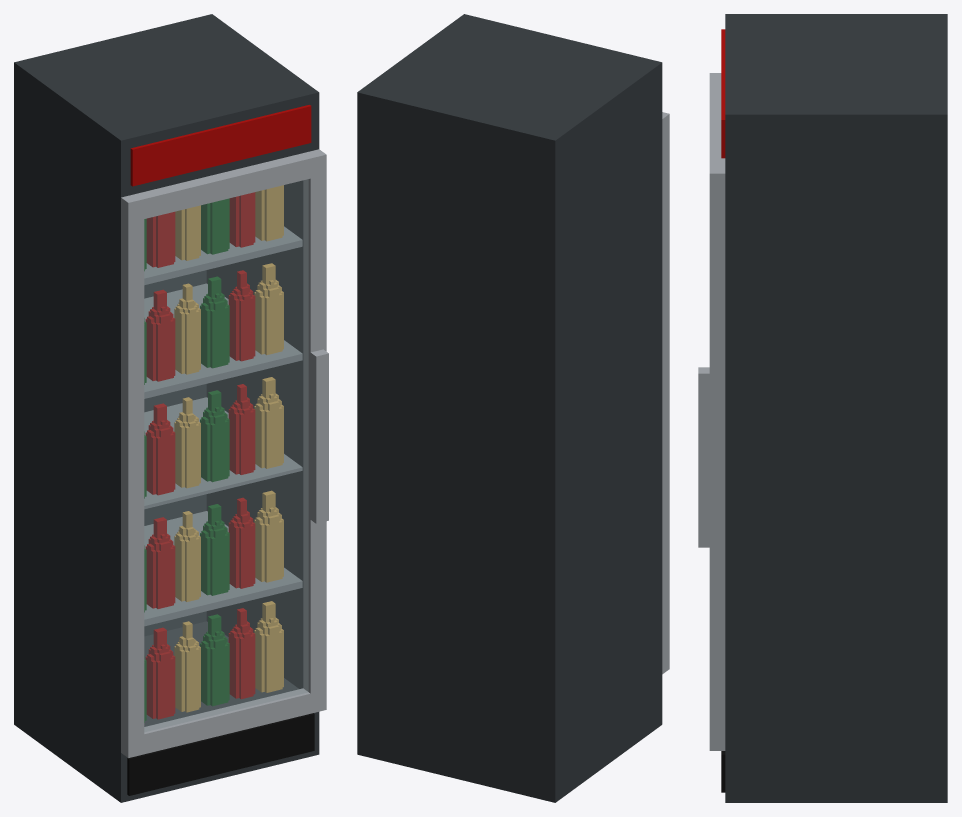
Rendered from glass_fridge.glb.
3 renders of one model, left to right at view 1: azimuth 30°, elevation 25°; view 2: azimuth 150°, elevation 25°; view 3: azimuth 270°, elevation 25°, orthographic. The views are drawn at different scales.
Visible parts, largest first — view 1: glass_fridge:compound; view 2: glass_fridge:compound; view 3: glass_fridge:compound.
Boxes of the visible parts, x1,y1,x2,y2 form: glass_fridge:compound: (14,14,328,802); glass_fridge:compound: (357,14,669,802); glass_fridge:compound: (698,14,947,802).
Bounding box in the file's own units: 0.62 × 1.98 × 0.65.
